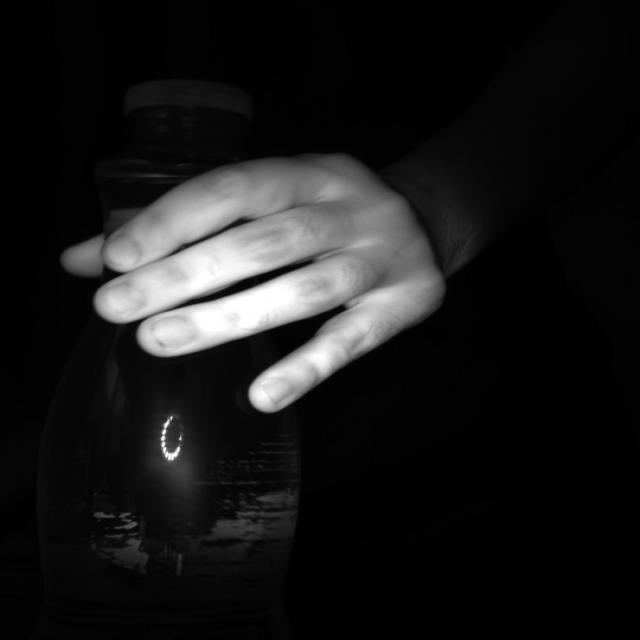Not Good: (123, 80, 253, 129)
